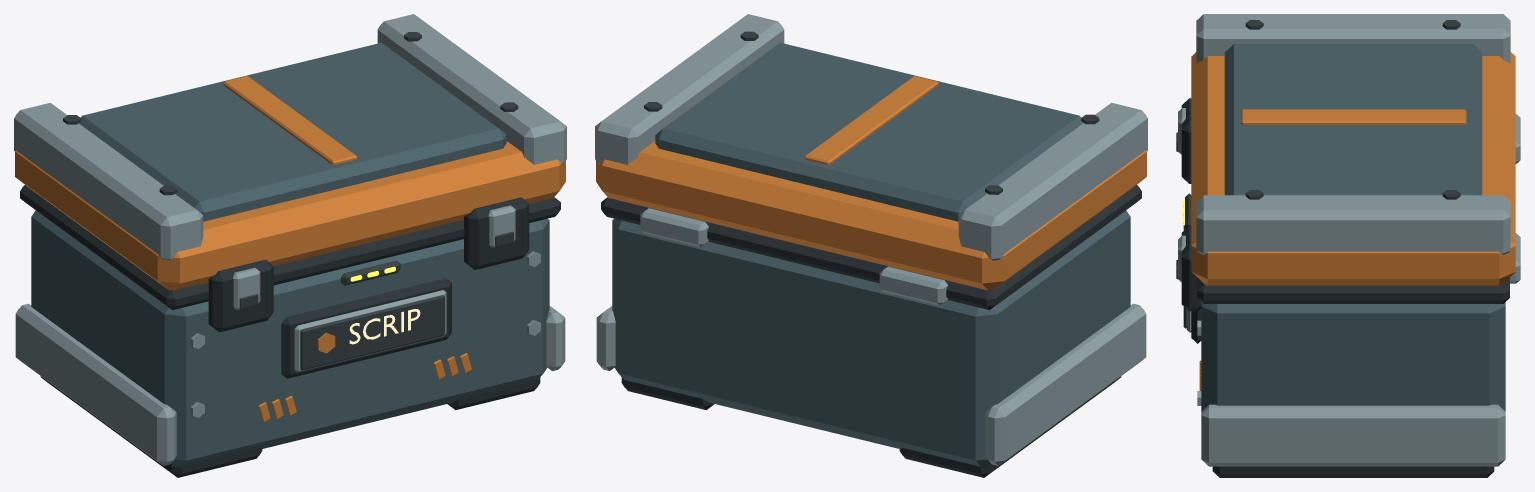
File: e1d-band1-scrip-chest.glb
3 renders of one model, left to right at view 1: azimuth 30°, elevation 25°; view 2: azimuth 150°, elevation 25°; view 3: azimuth 270°, elevation 25°, orthographic. The views are drawn at different scales.
Parts seen in each view (by area): view 1: E1d | East Band 1 Scrip chest; view 2: E1d | East Band 1 Scrip chest; view 3: E1d | East Band 1 Scrip chest.
Boxes of the visible parts, x1=… form: E1d | East Band 1 Scrip chest: x1=14, y1=14, x2=566, y2=477; E1d | East Band 1 Scrip chest: x1=595, y1=14, x2=1147, y2=477; E1d | East Band 1 Scrip chest: x1=1176, y1=14, x2=1520, y2=477.
Bounding box in the file's own units: 1.4 × 0.9 × 1.
